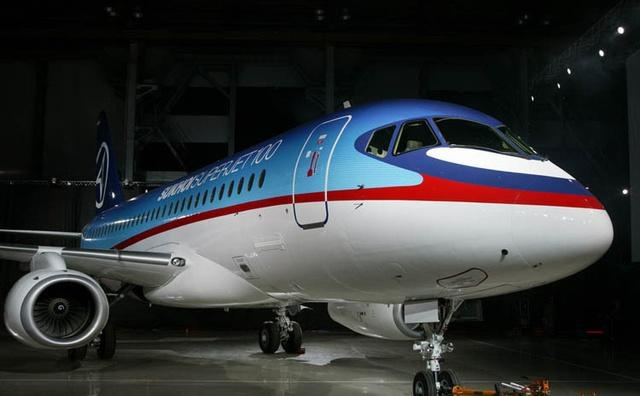airplane: (1, 97, 628, 359)
